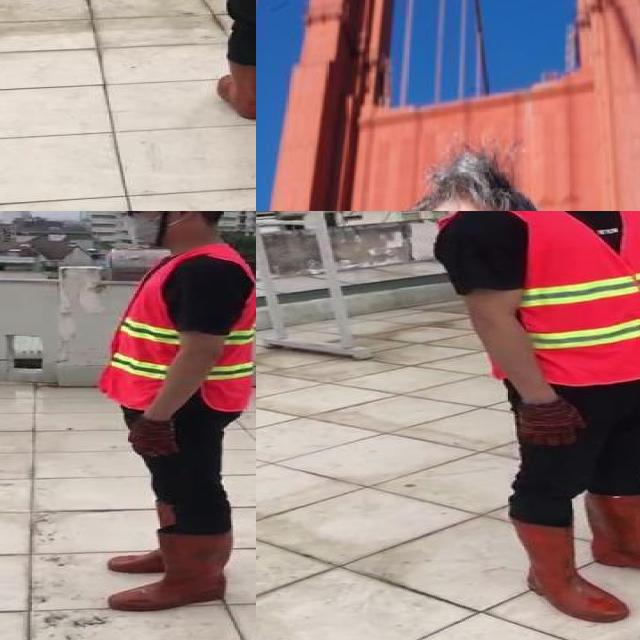boots: (510, 514, 636, 624), (106, 529, 236, 611), (106, 498, 221, 572), (580, 491, 640, 578), (213, 57, 256, 120)
face_mask: (118, 211, 171, 246)
hand_glove: (522, 401, 586, 447), (126, 417, 178, 457)
head_nohelmet: (369, 167, 575, 211)
person: (424, 211, 640, 635), (65, 211, 256, 623), (191, 0, 256, 177)
vest: (435, 211, 640, 387), (101, 246, 256, 411)
